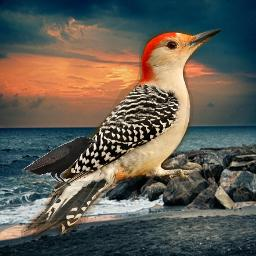Crow: (22, 136, 98, 186)
Woodpecker: (21, 28, 221, 242)
